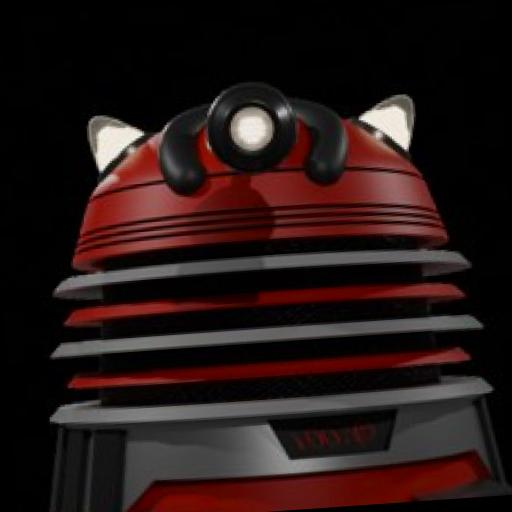dalek: (17, 62, 508, 512)
